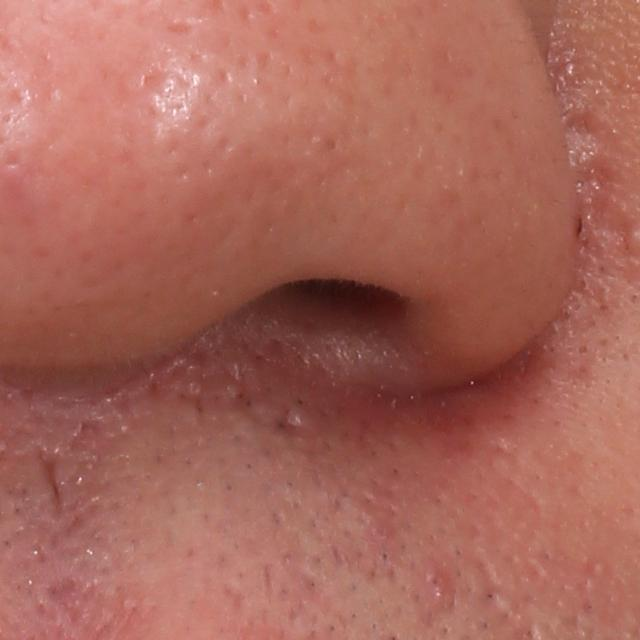atrophic_scar: (568, 108, 617, 157), (32, 446, 62, 510), (269, 405, 301, 440)
papule: (425, 564, 451, 603)
